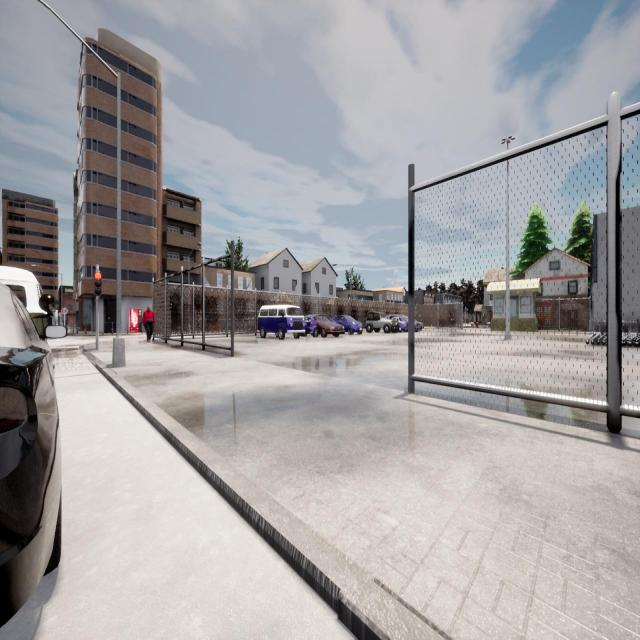Pedestrian: (142, 306, 154, 343)
Traffic_Signs: (62, 308, 68, 314), (59, 312, 62, 316)
Vehicle: (0, 282, 62, 624), (0, 266, 49, 340), (258, 306, 305, 339), (304, 315, 344, 337), (366, 312, 398, 333), (387, 315, 423, 332), (333, 315, 363, 335)
traffic_light: (94, 273, 101, 296)
